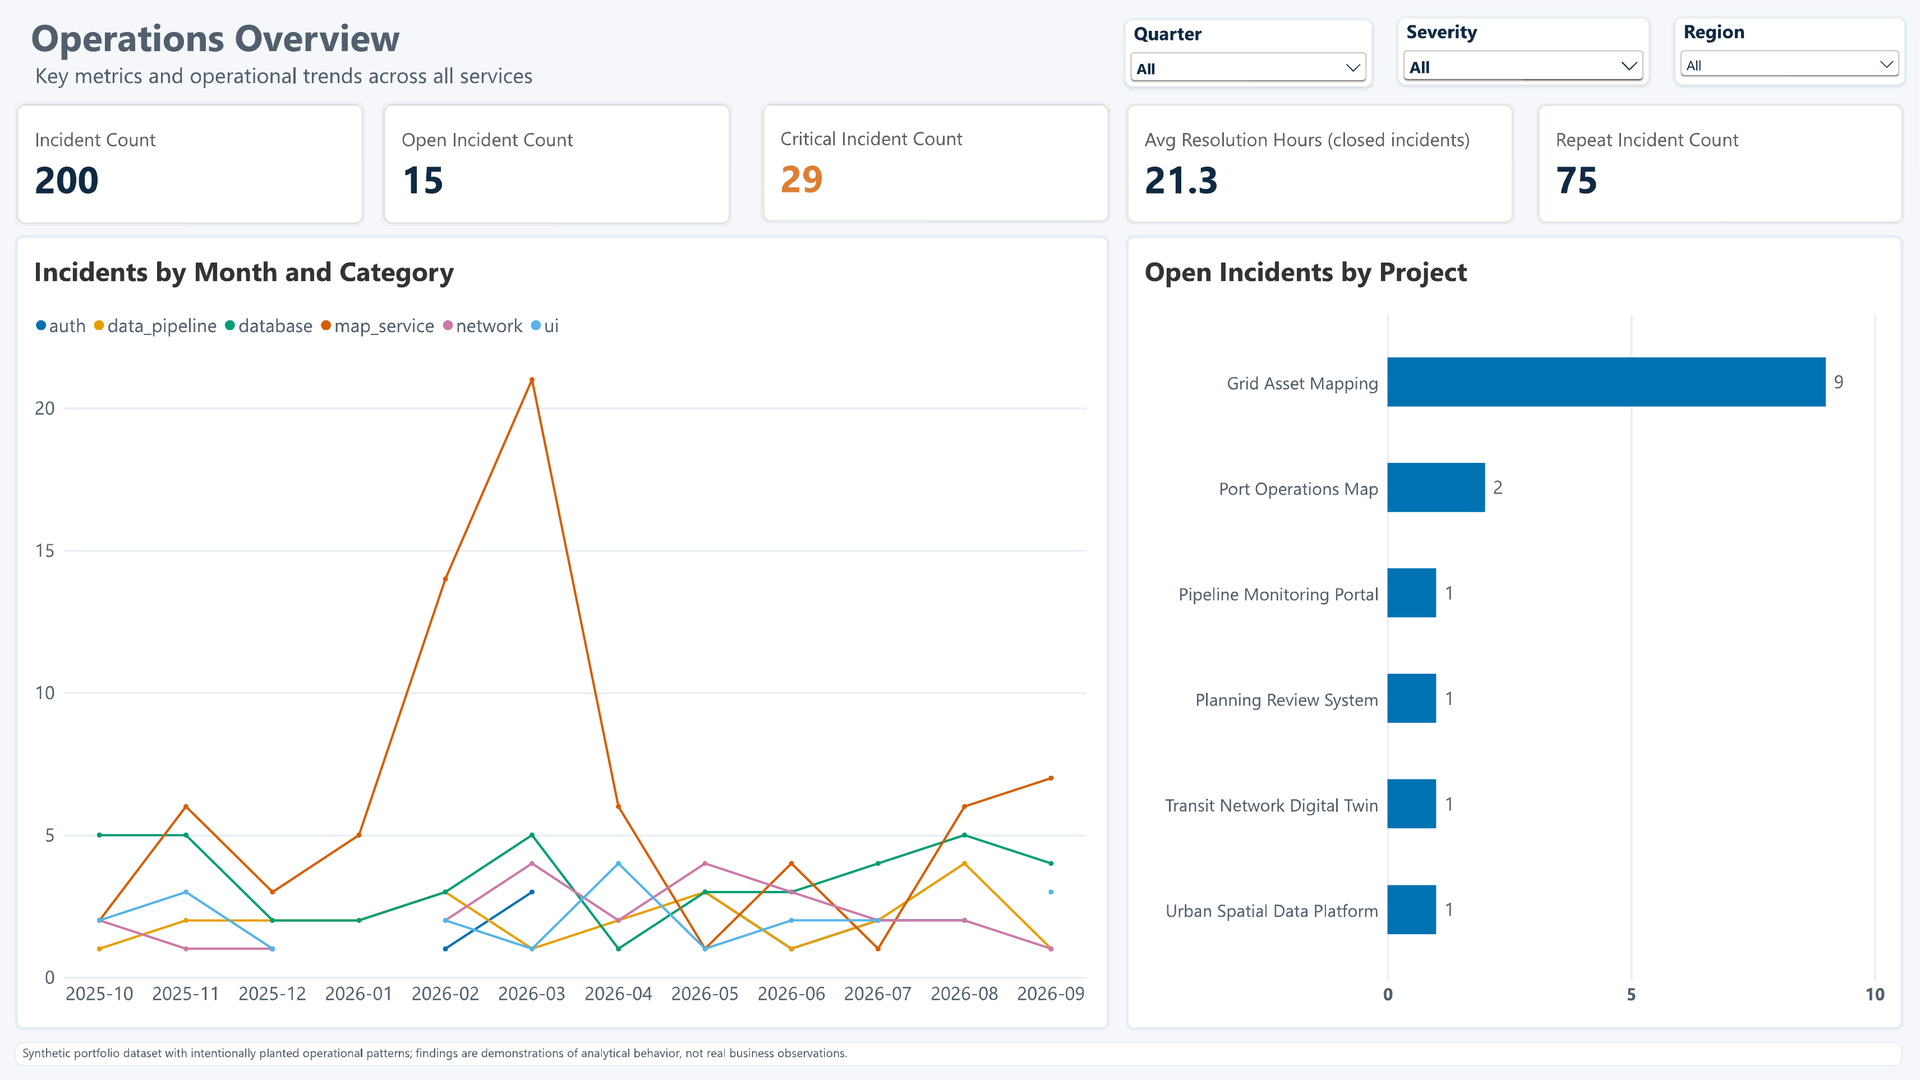

What the dashboard file says about the page in this screenshot:
{"tool":"powerbi","page":{"name":"Operations overview","canvas":[1920,1080],"ordinal":0},"visuals":[{"type":"cardVisual","fields":{"Data":["_Measures.Incident Count"]},"box":[14.9,102,350,123.6],"z":0},{"type":"cardVisual","fields":{"Data":["_Measures.Open Incident Count"]},"box":[381.5,102,350,123.6],"z":1000},{"type":"cardVisual","fields":{"Data":["_Measures.Critical Incident Count"]},"box":[760.9,102,350,121.5],"z":2000},{"type":"cardVisual","title":"Avg Resolution Hours (closed incidents only)","fields":{"Data":["_Measures.Avg Resolution Hours"]},"box":[1125.6,103,389.1,121.2],"z":3000},{"type":"cardVisual","fields":{"Data":["_Measures.Repeat Incident Count"]},"box":[1536.8,103,368,121.5],"z":4000},{"type":"lineChart","title":"Incidents by Month and Category","fields":{"Category":["dim_date.month"],"Series":["fact_incidents.category"],"Y":["_Measures.Incident Count"]},"box":[14.9,235,1095.6,795],"z":5000},{"type":"barChart","title":"Open Incidents by Project","fields":{"Category":["dim_project.project_name"],"Y":["_Measures.Open Incident Count"]},"box":[1125.6,235.3,778.2,794.4],"z":6000},{"type":"textbox","box":[0,11,716.2,83.1],"z":7000},{"type":"slicer","fields":{"Values":["dim_date.quarter"]},"box":[1125.4,19.2,247.2,68.2],"z":8000},{"type":"slicer","fields":{"Values":["fact_incidents.severity"]},"box":[1398.2,17.1,251.5,68.2],"z":9000},{"type":"slicer","fields":{"Values":["dim_project.region"]},"box":[1675.3,17.1,230.2,68.2],"z":10000},{"type":"textbox","box":[14.9,1042.3,1888.5,23.4],"z":11000}]}

Visuals, with their boxes in screenshot pixels (x1, y1, x2, y2), scaled from the page's 1920x1080 canvas onto the 1920x1080 screenshot:
cardVisual - _Measures.Incident Count: 15:102:365:226
cardVisual - _Measures.Open Incident Count: 382:102:732:226
cardVisual - _Measures.Critical Incident Count: 761:102:1111:224
"Avg Resolution Hours (closed incidents only)" cardVisual: 1126:103:1515:224
cardVisual - _Measures.Repeat Incident Count: 1537:103:1905:224
"Incidents by Month and Category" lineChart: 15:235:1110:1030
"Open Incidents by Project" barChart: 1126:235:1904:1030
textbox: 0:11:716:94
slicer - dim_date.quarter: 1125:19:1373:87
slicer - fact_incidents.severity: 1398:17:1650:85
slicer - dim_project.region: 1675:17:1906:85
textbox: 15:1042:1903:1066
